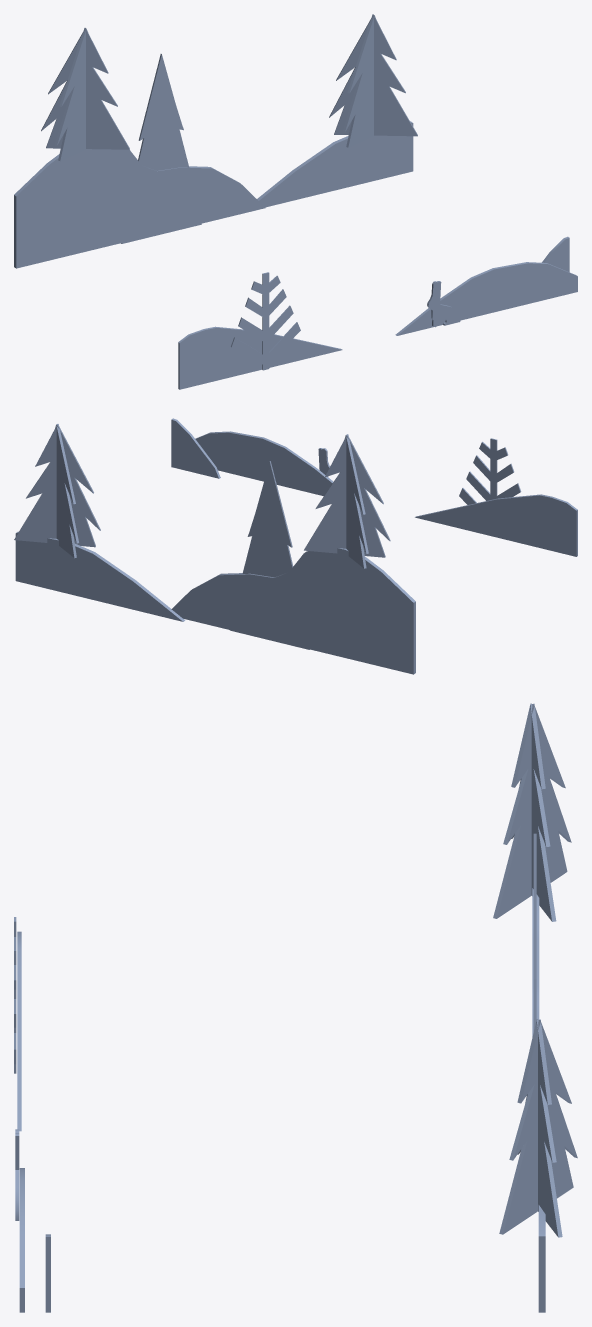
The model's file is frame_0201.glb.
The picture shows the model from 3 angles, top to bottom: view 1: azimuth 30°, elevation 25°; view 2: azimuth 150°, elevation 25°; view 3: azimuth 270°, elevation 25°; orthographic projection. The views are drawn at different scales.
Parts seen in each view (by area): view 1: export_trees_001.002; view 2: export_trees_001.002; view 3: export_trees_001.002.
Part boxes in pixels (x1=…): export_trees_001.002: x1=14, y1=14, x2=577, y2=389; export_trees_001.002: x1=14, y1=418, x2=577, y2=674; export_trees_001.002: x1=14, y1=703, x2=577, y2=1312.
Bounding box in the file's own units: 0.4327 × 0.2333 × 0.336.
